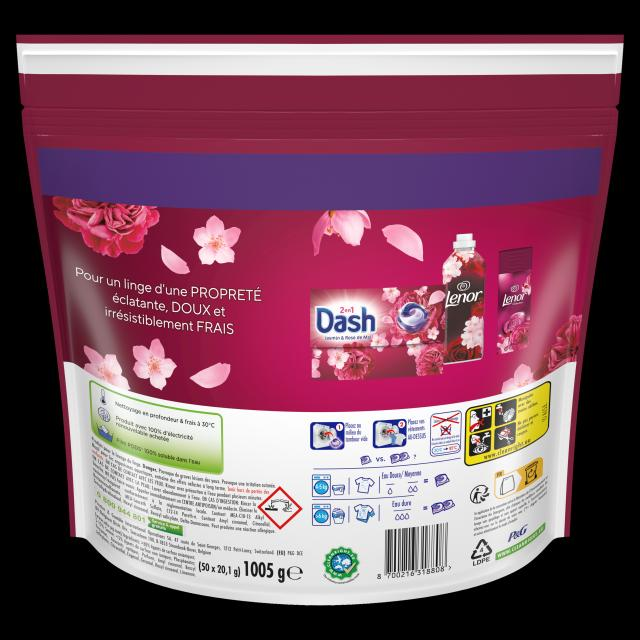GHS_Symbol_CORROSION: (258, 486, 302, 530)
